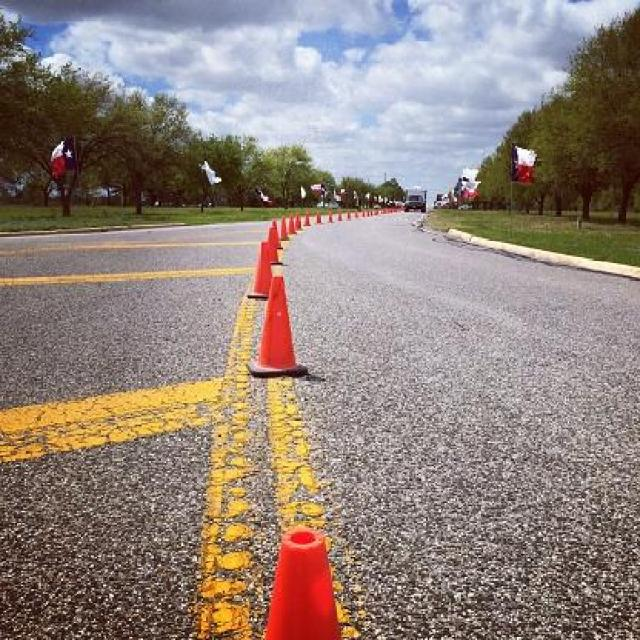Cone: (260, 529, 342, 640), (244, 274, 304, 374), (244, 240, 276, 302), (266, 223, 283, 263), (278, 215, 290, 240), (292, 212, 302, 231), (288, 212, 294, 234), (296, 211, 302, 229), (303, 212, 309, 225), (315, 210, 320, 224), (328, 211, 332, 220), (338, 211, 342, 220)
